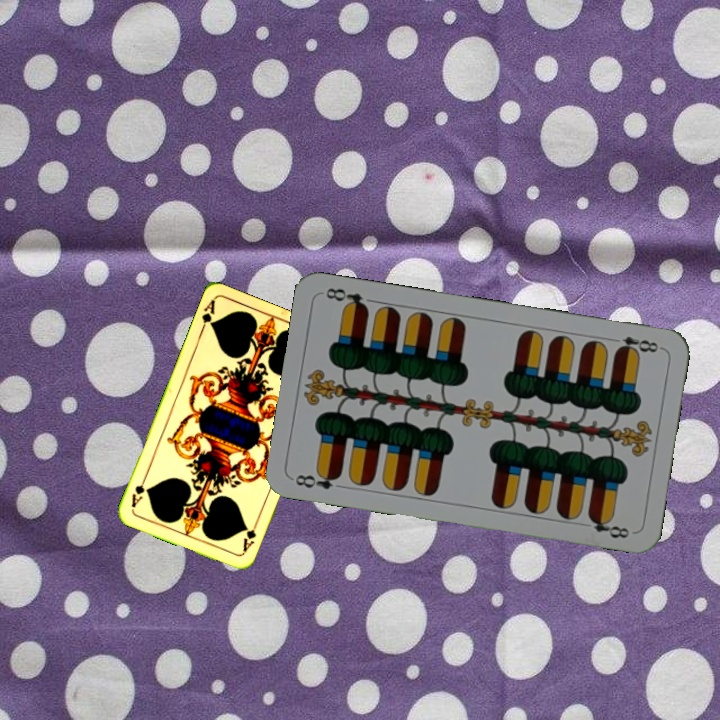E8: (606, 332, 664, 357), (291, 467, 344, 492)
GA: (196, 296, 218, 335), (239, 516, 261, 555)
